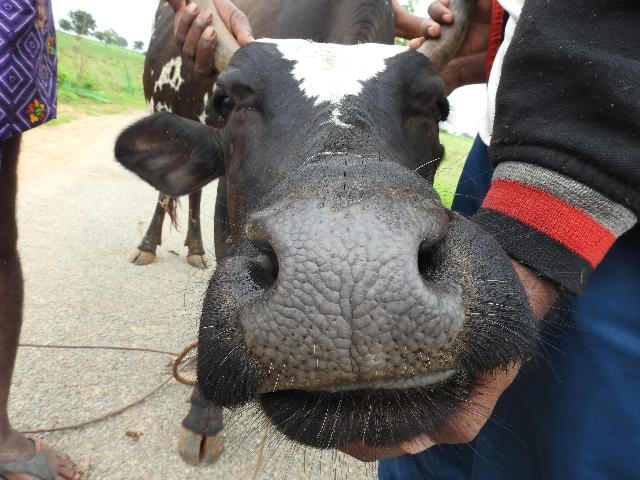Muzzle: (241, 208, 455, 380)
